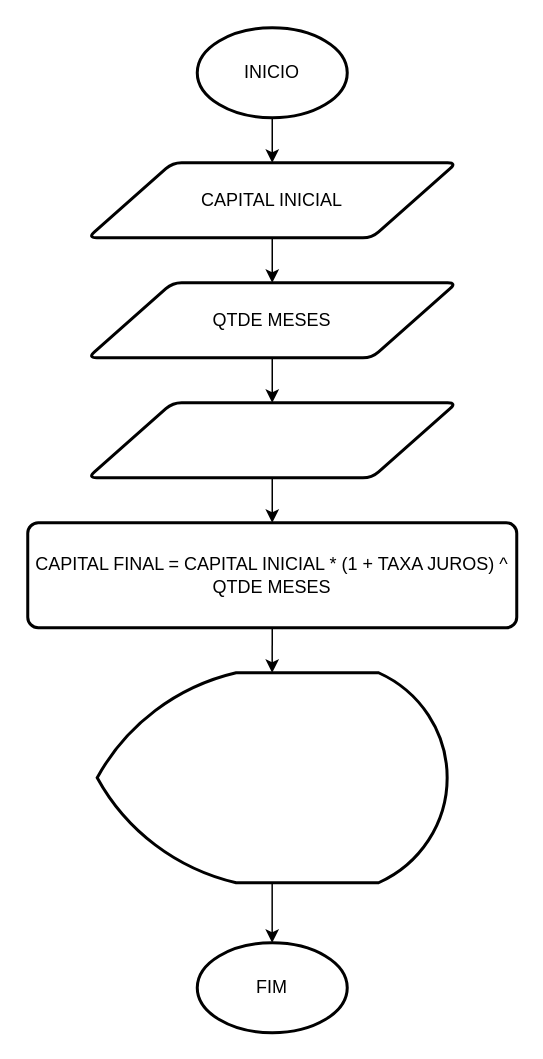
This 543x1059 diagram has some shape labels left out. Each missing label, with the centre of its shape:
CAPITAL INICIAL QTDE MESES TAXA DE JUROS CAPITAL FINAL: (x=271, y=777)
TAXA DE JUROS: (x=272, y=439)
